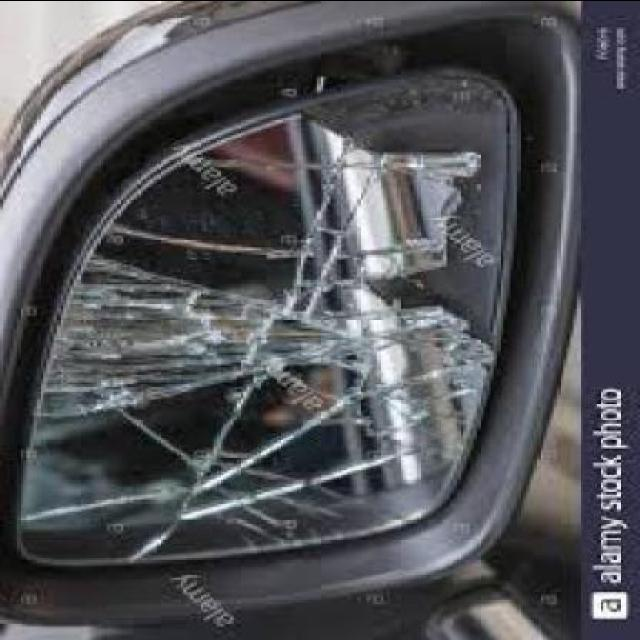Sidemirror-Damage: (0, 2, 604, 616)
